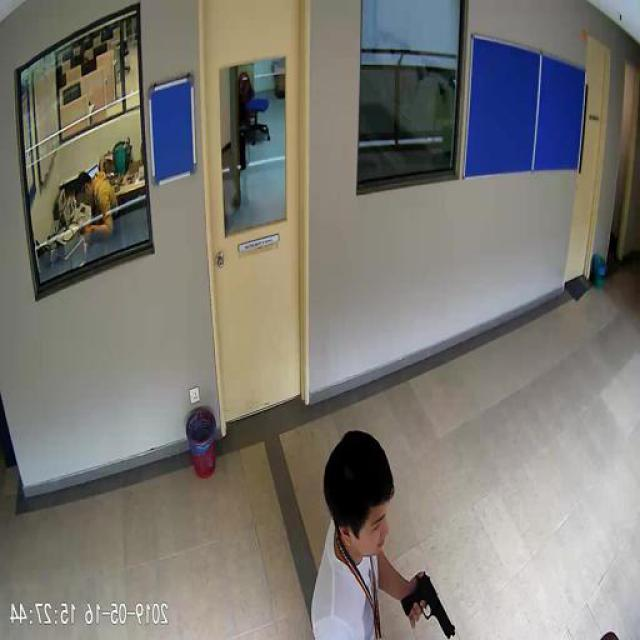Gun: (402, 570, 457, 638)
